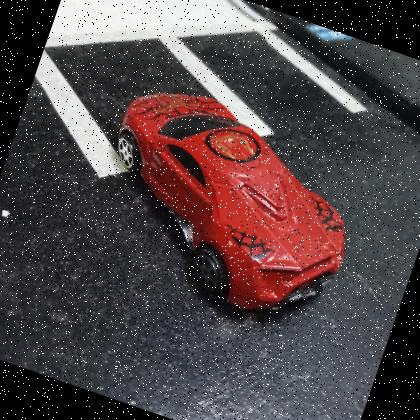Car: (116, 93, 345, 312)
